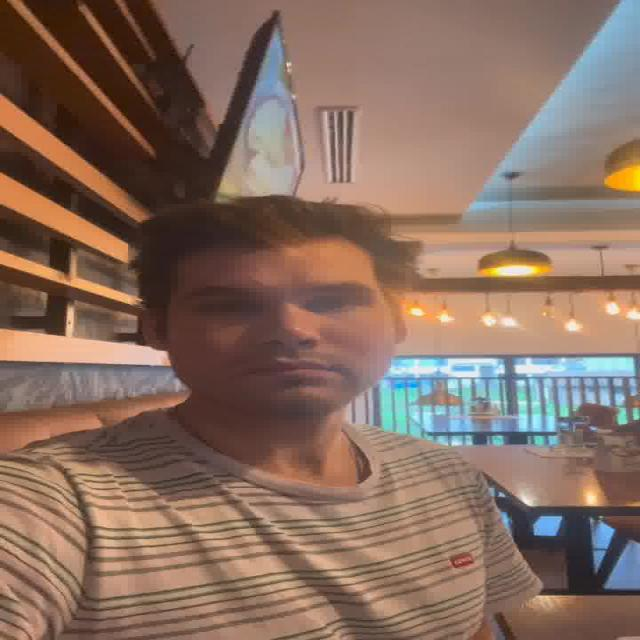earlobe: (136, 307, 169, 351), (387, 291, 411, 345)
